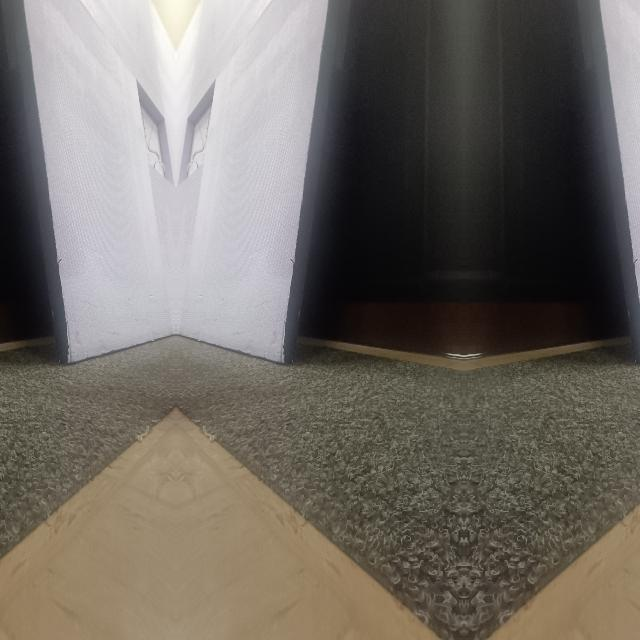obstacle: (182, 162, 328, 362), (22, 162, 168, 362), (599, 161, 640, 362)
